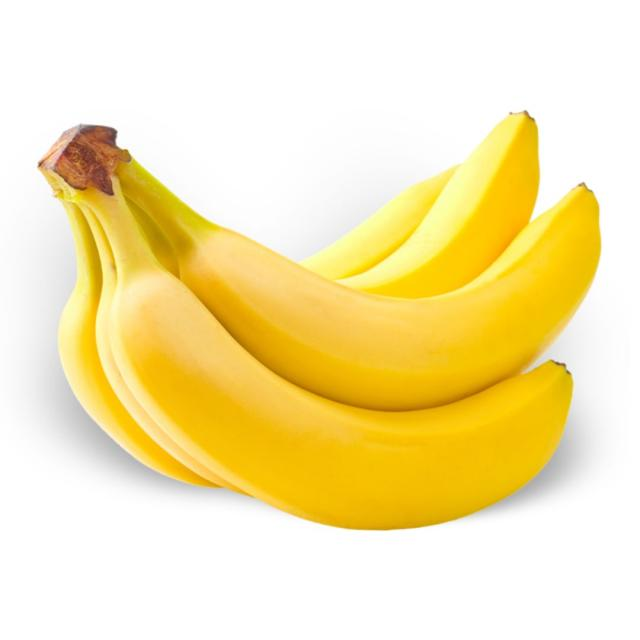Pisang: (45, 110, 598, 523)
